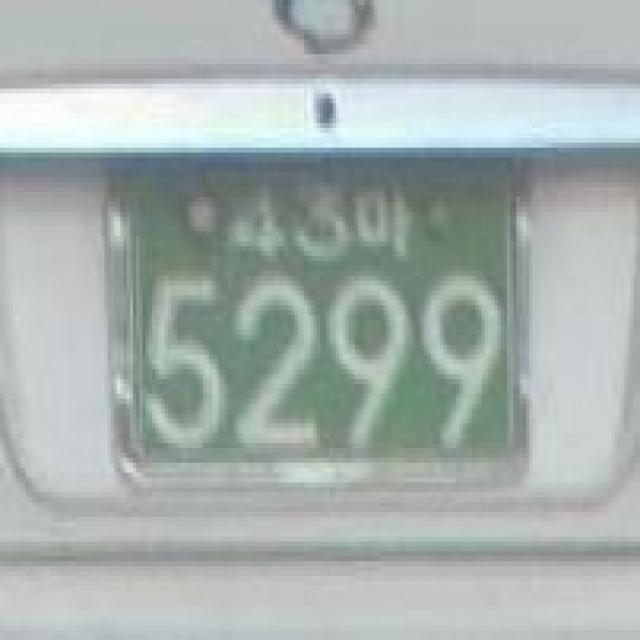illegal_plate: (97, 136, 543, 513)
